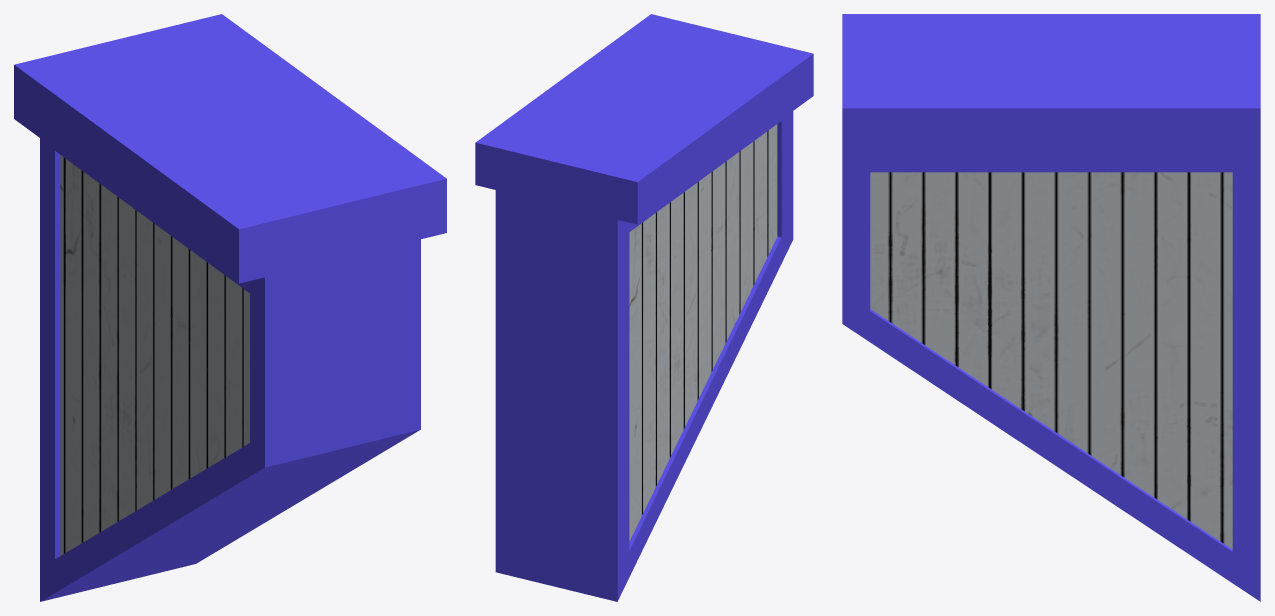
Rendered from CeilingSupport_CeilingBeamConnector_01.FBX.
3 views of the same model, side by side, from view 1: azimuth 30°, elevation 25°; view 2: azimuth 150°, elevation 25°; view 3: azimuth 270°, elevation 25° (orthographic). The views are drawn at different scales.
Parts seen in each view (by area): view 1: CeilingSupport_CeilingBeamConnector_01; view 2: CeilingSupport_CeilingBeamConnector_01; view 3: CeilingSupport_CeilingBeamConnector_01.
Part boxes in pixels (bbox=[...]): CeilingSupport_CeilingBeamConnector_01: bbox=[14, 14, 446, 601]; CeilingSupport_CeilingBeamConnector_01: bbox=[475, 14, 813, 601]; CeilingSupport_CeilingBeamConnector_01: bbox=[842, 14, 1260, 601].
Size of the model in its own units: 0.8 by 2 by 1.5.
Materials: 2 (1 with a texture image).
